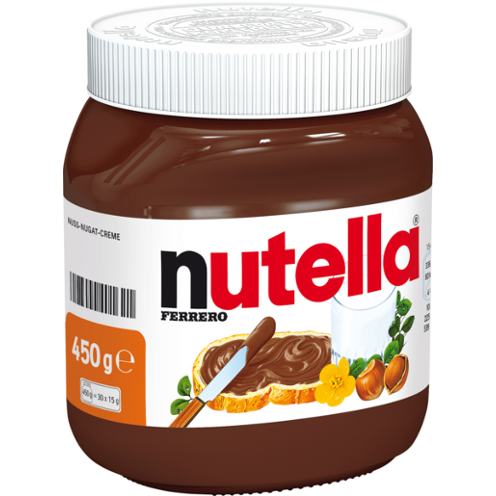nutella: (62, 3, 435, 496)
